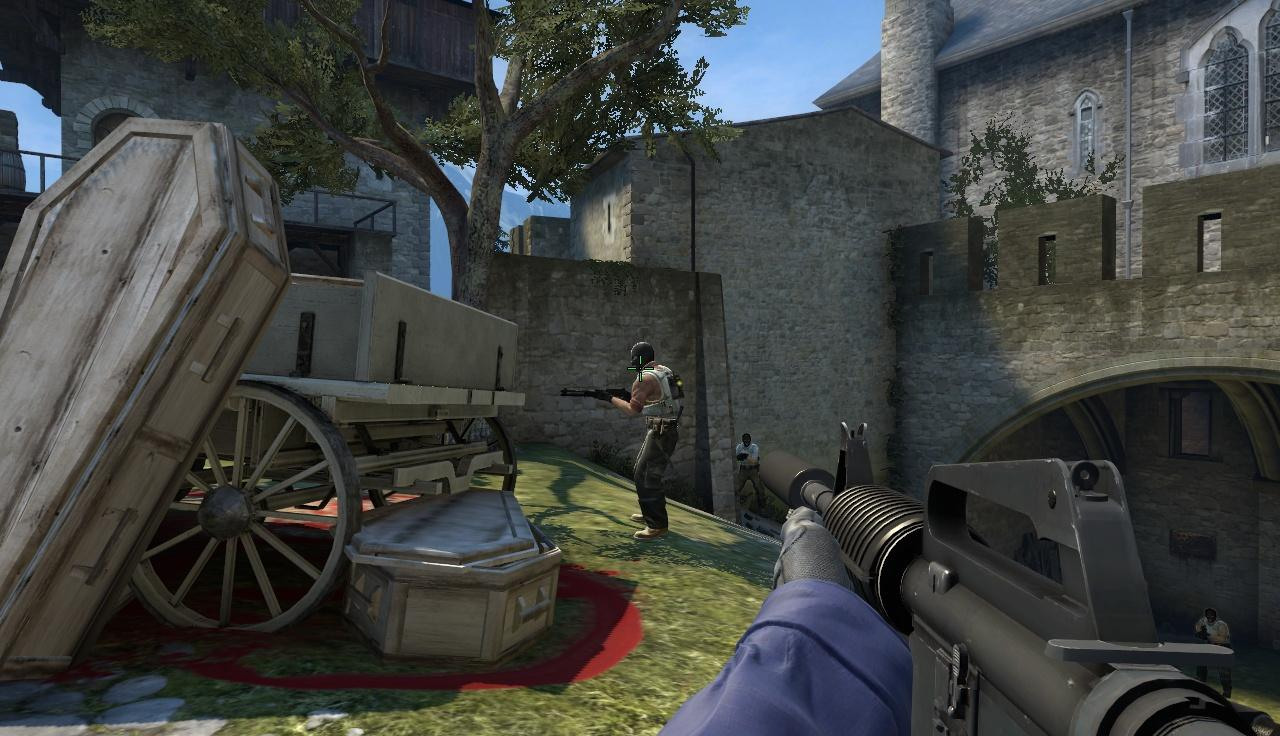ct: (759, 420, 1280, 736)
tt: (629, 342, 681, 540), (1195, 607, 1231, 695), (736, 433, 759, 512)
tthead: (631, 342, 653, 370), (1205, 608, 1216, 623), (742, 434, 751, 446)
